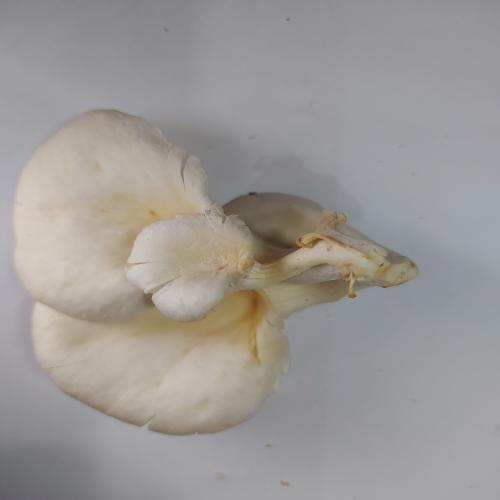Oyster Mushroom: (12, 108, 419, 436)
